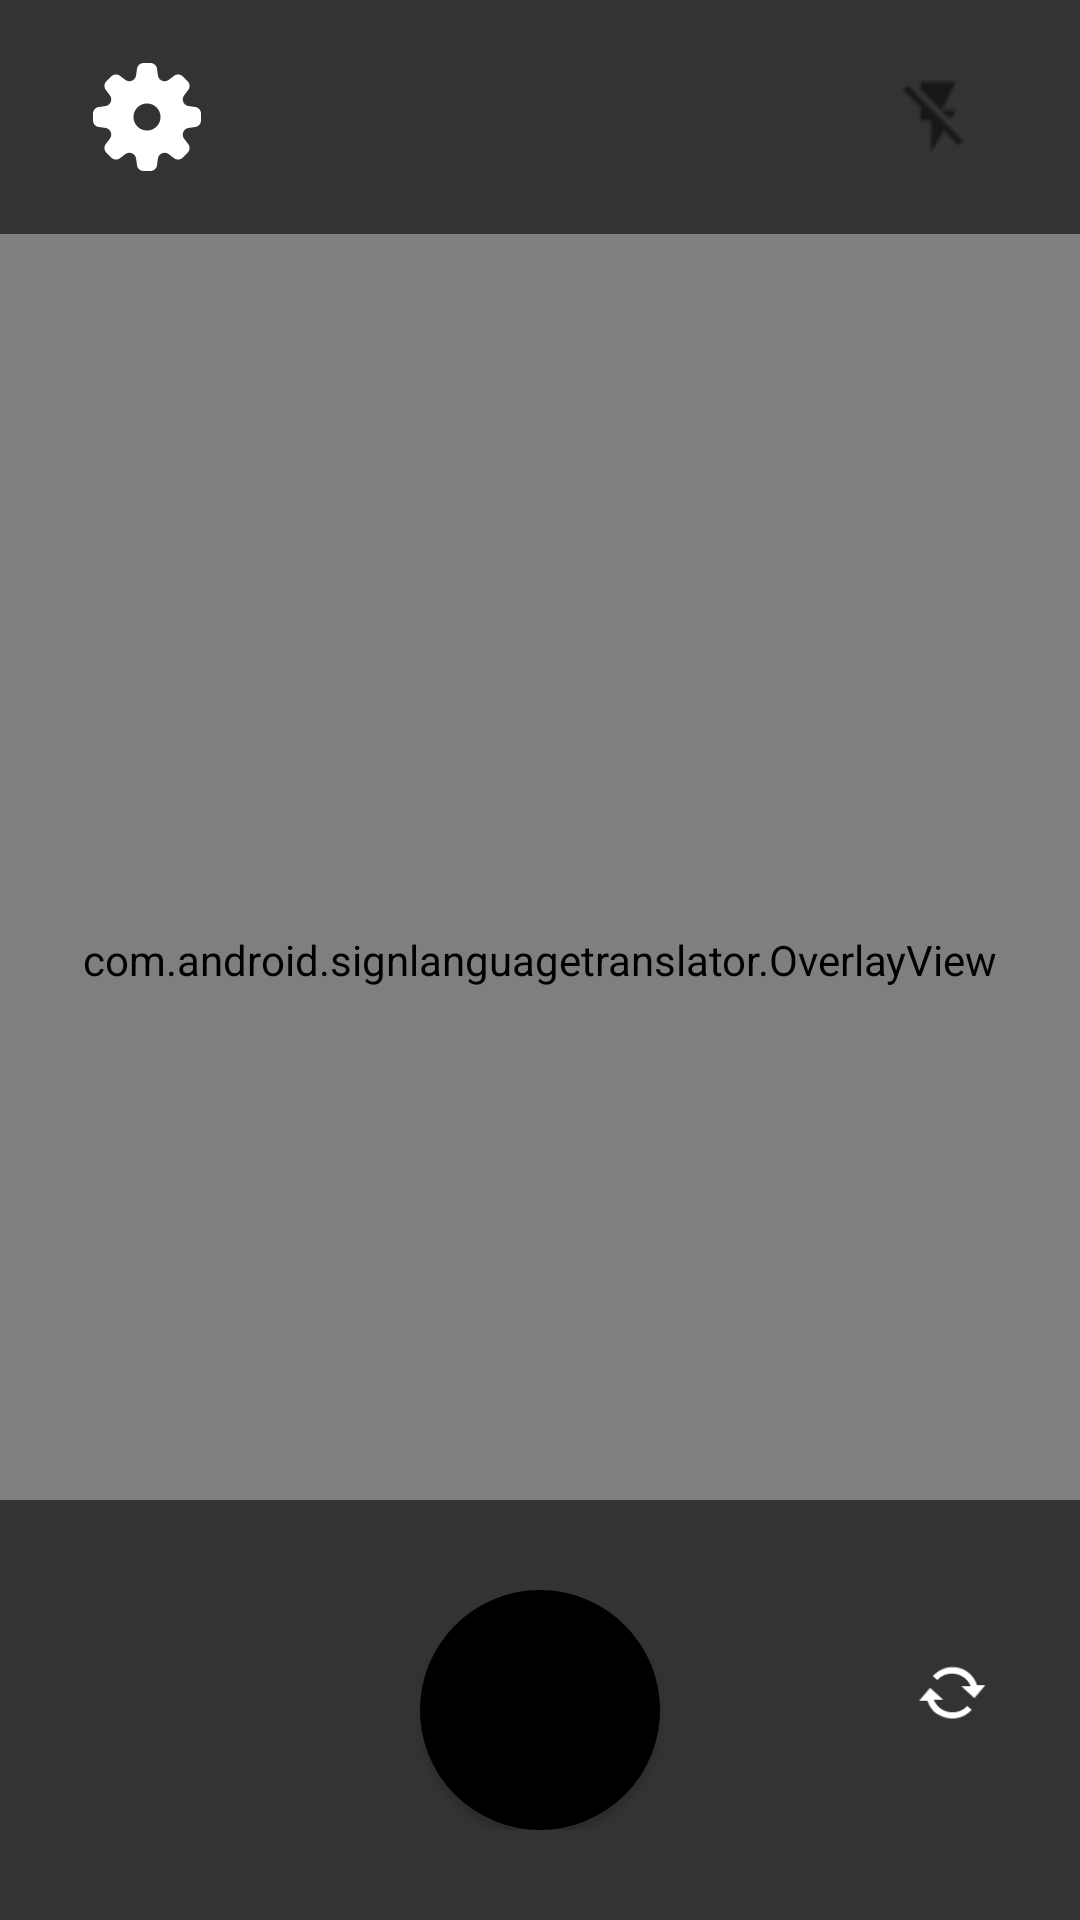

Screen size 1080w x 1920h. Icon name, then its center in pixels as point (x, y):
flash off: point (933, 114)
settings: point (147, 117)
